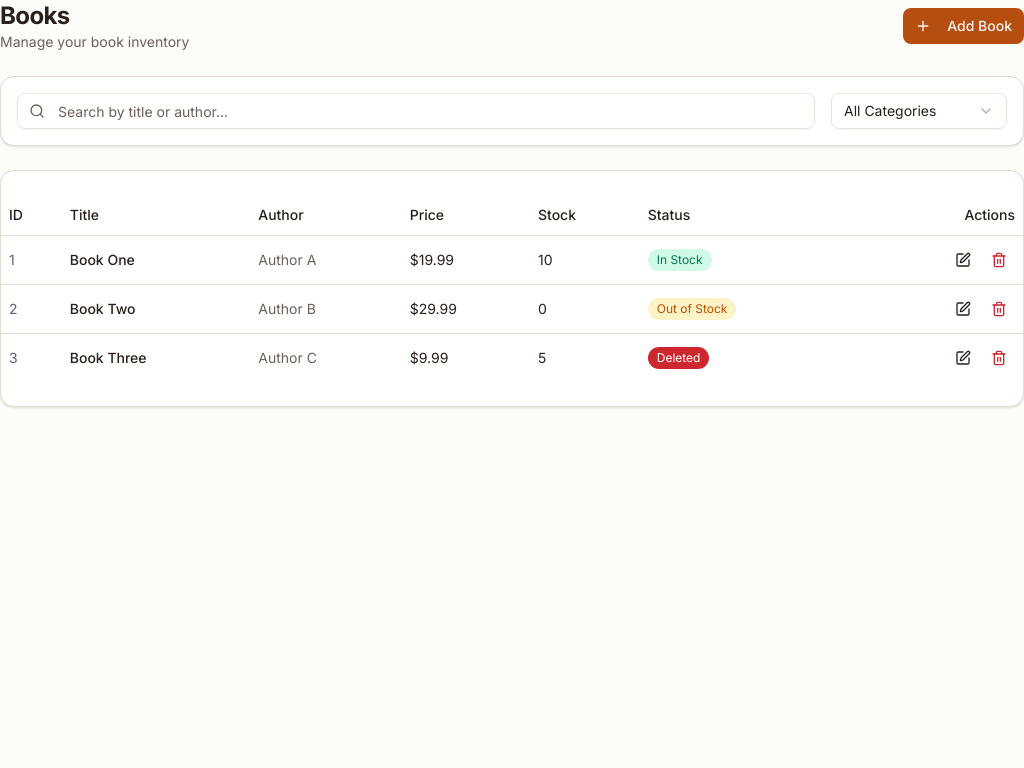
BooksListPage › should open delete dialog when delete button is clicked
Expected: the link "Book One" is shown, [70, 250, 135, 268]
Note: The last button in the row is the delete button
What coordinates should you click on to do the following:
click the 3rd button
I would click on:
 (999, 260)
Its box is [983, 244, 1015, 276].
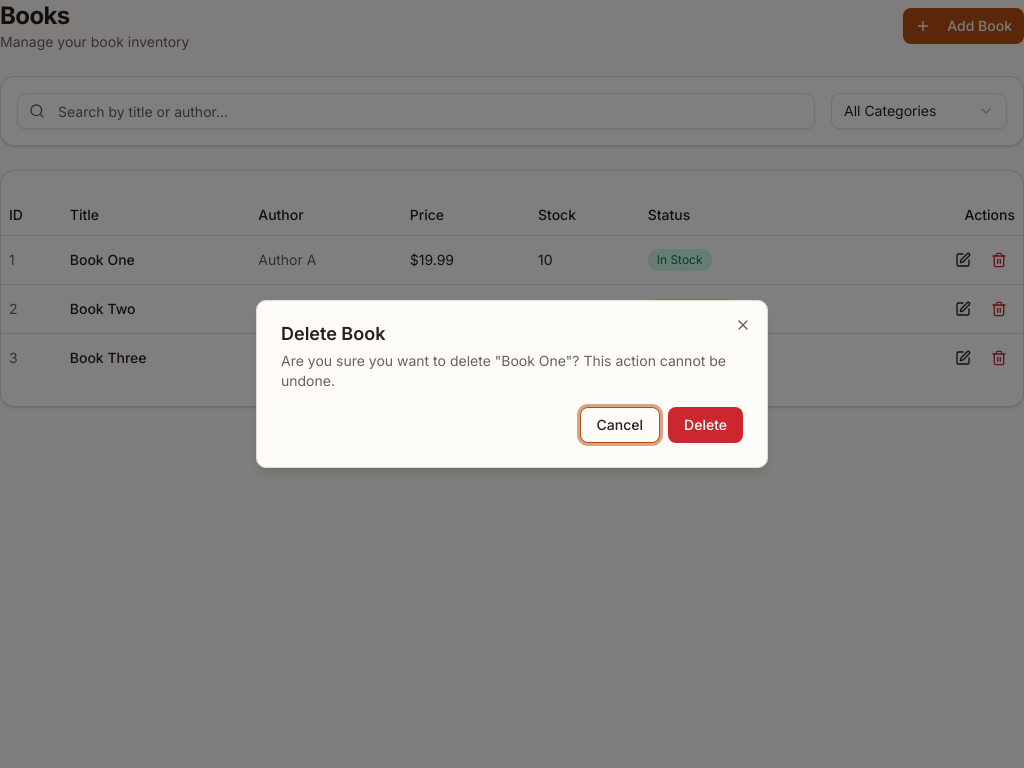
Expected: the heading "Delete Book" is shown, [281, 323, 385, 344]
Expected: the text "Are you sure you want to delete" is shown, [281, 352, 501, 369]
